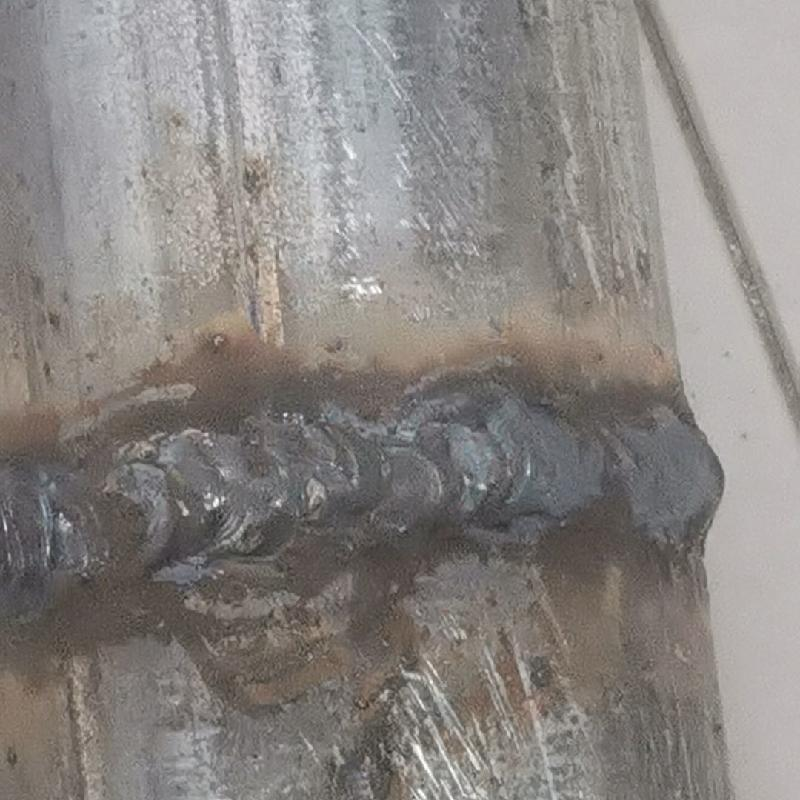good: (1, 358, 722, 607)
